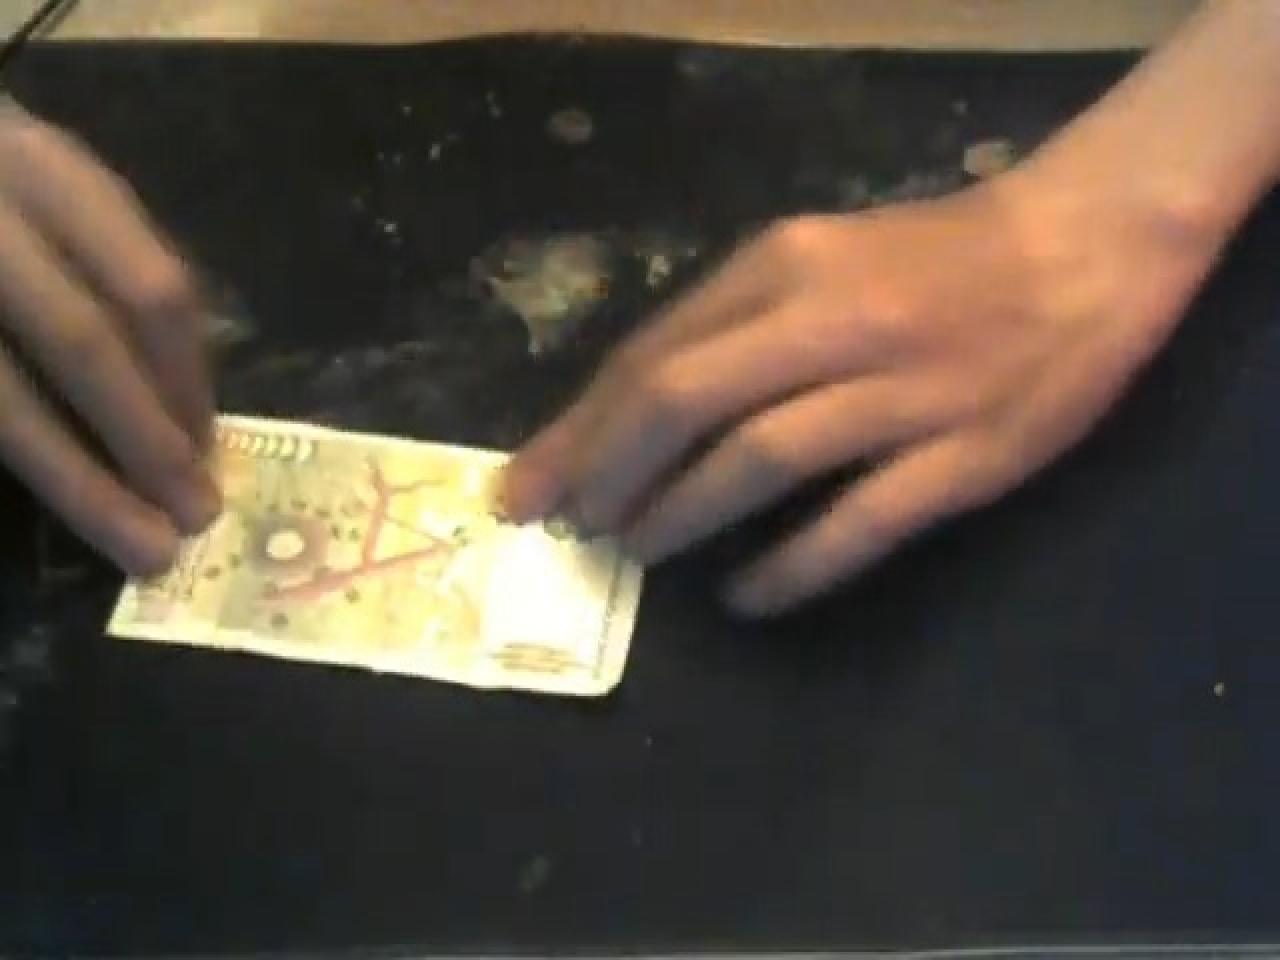10leva: (100, 405, 646, 702)
